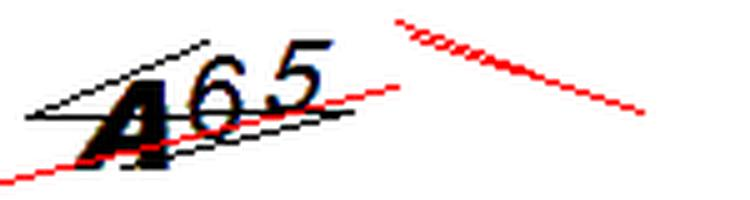5: (258, 31, 339, 120)
6: (184, 50, 250, 145)
A: (71, 73, 175, 176)
